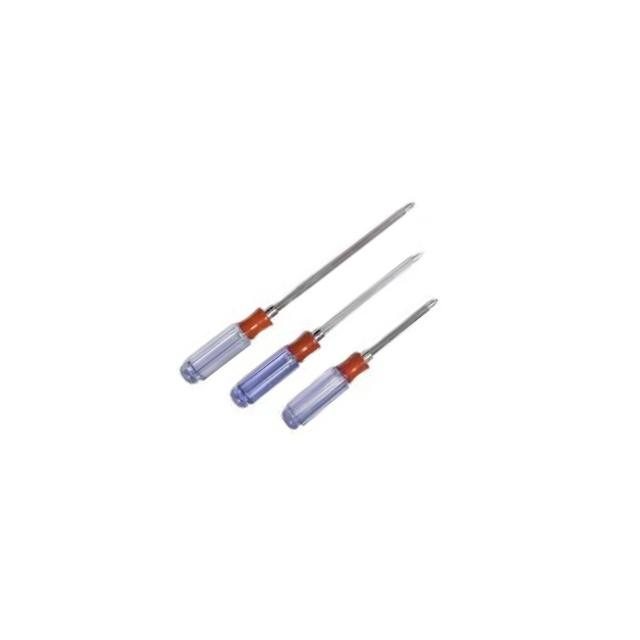screwdriver: (173, 190, 422, 392), (222, 240, 435, 415), (272, 287, 452, 437)
